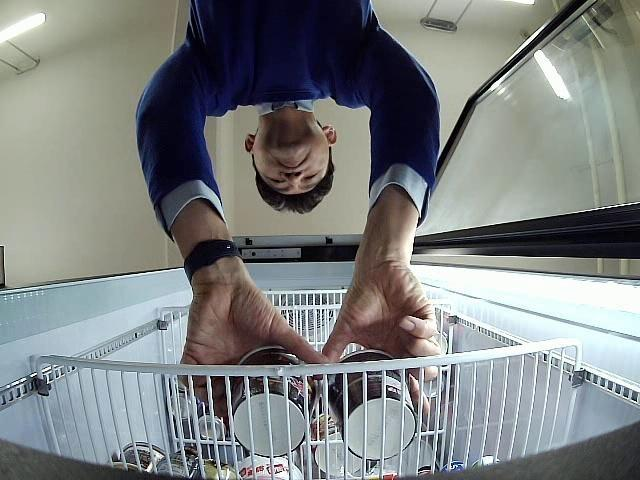08_buldak_S: (232, 346, 318, 456), (330, 351, 416, 460)
